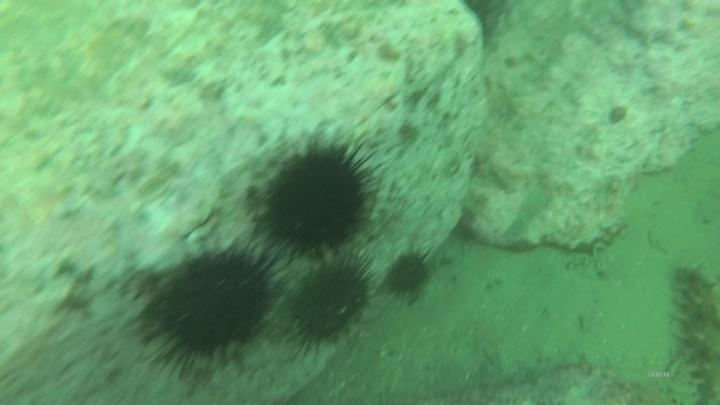echinus: (136, 238, 286, 377), (251, 134, 382, 265), (279, 250, 378, 356), (382, 247, 435, 302)
holothurian: (664, 261, 720, 403)
